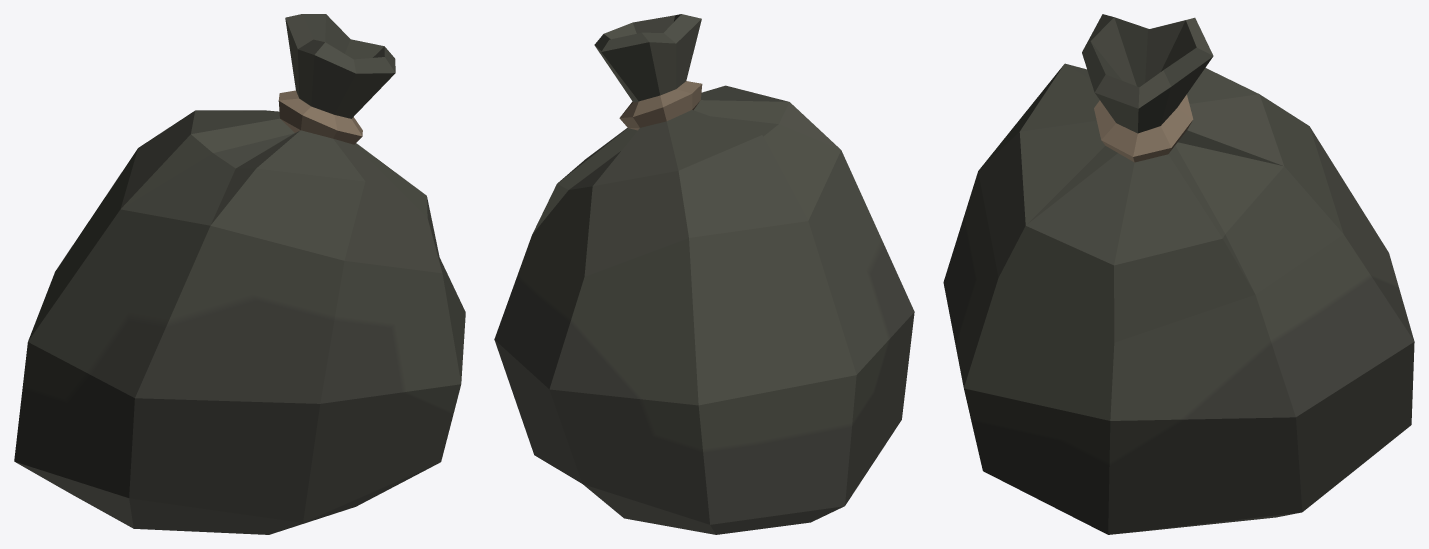
Rendered from SM_Prop_Rubbish_Bag_02.glb.
3 views of the same model, side by side, from view 1: azimuth 30°, elevation 25°; view 2: azimuth 150°, elevation 25°; view 3: azimuth 270°, elevation 25° (orthographic). The views are drawn at different scales.
Parts seen in each view (by area): view 1: SM_Prop_Rubbish_Bag_02; view 2: SM_Prop_Rubbish_Bag_02; view 3: SM_Prop_Rubbish_Bag_02.
Part boxes in pixels (left/top/right/bottom): SM_Prop_Rubbish_Bag_02: left=14, top=14, right=465, bottom=534; SM_Prop_Rubbish_Bag_02: left=494, top=14, right=914, bottom=534; SM_Prop_Rubbish_Bag_02: left=943, top=14, right=1414, bottom=534.
Size of the model in its own units: 0.5653 by 0.6384 by 0.5557.
Materials: 1 (1 with a texture image).
